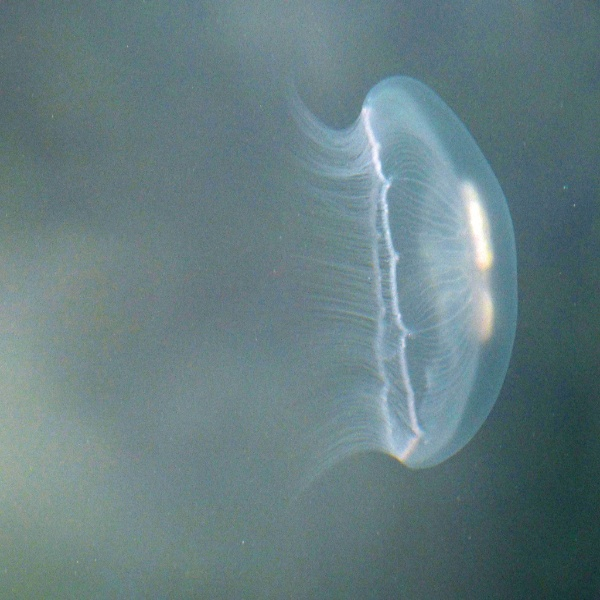Jellyfish: (278, 77, 519, 503)
